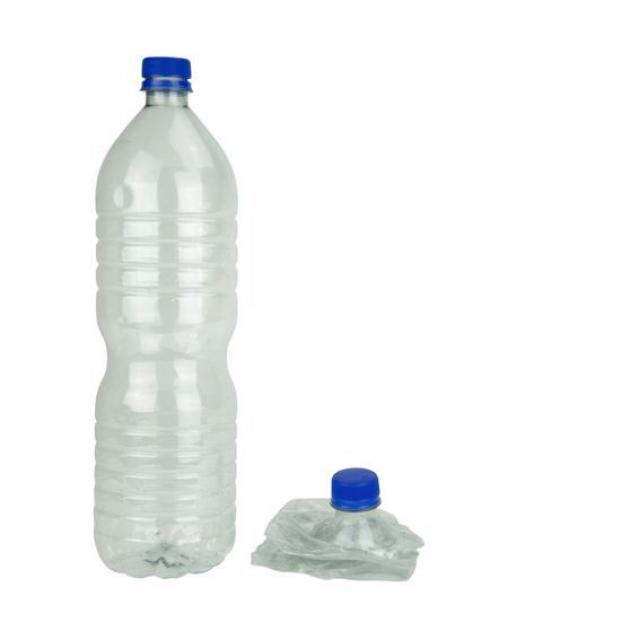plastic_bottle: (86, 51, 246, 586), (249, 466, 439, 596)
